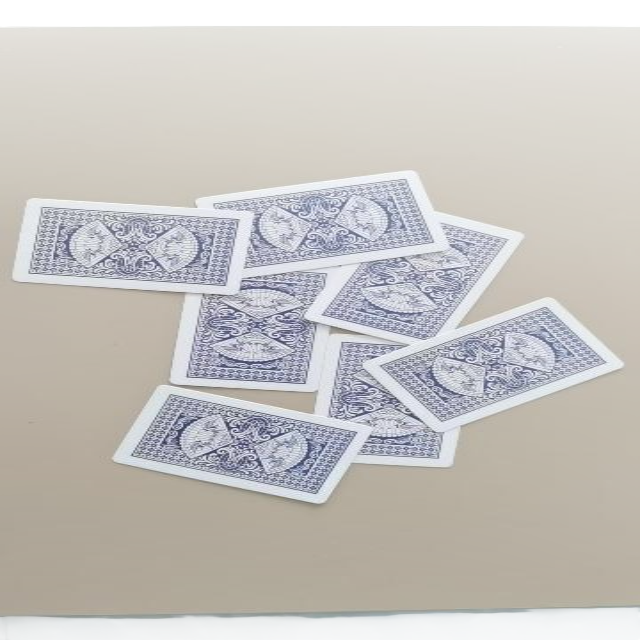card: (364, 298, 622, 431), (113, 385, 371, 504), (304, 214, 524, 344), (196, 171, 449, 278), (13, 199, 253, 294), (169, 269, 334, 391), (316, 334, 460, 468)
